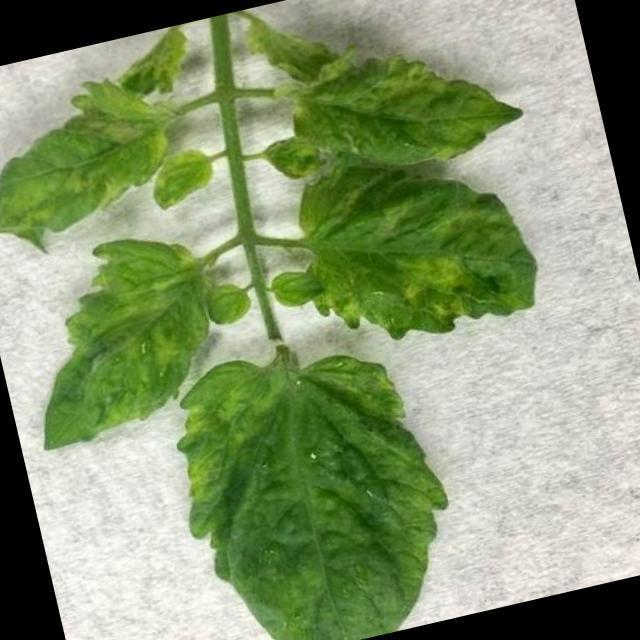Mosaic Virus: (165, 337, 475, 640), (270, 152, 547, 364), (0, 227, 242, 467), (259, 4, 532, 198), (0, 93, 199, 246), (142, 144, 229, 210)
